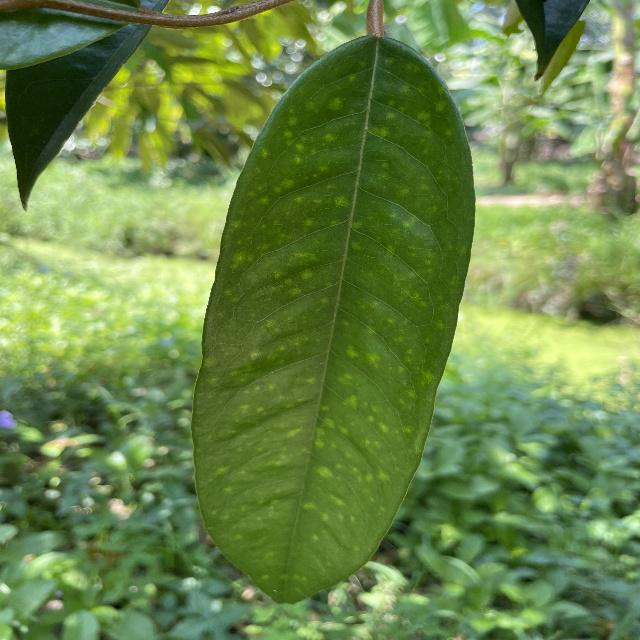Leaf Spot: (189, 19, 481, 605)
